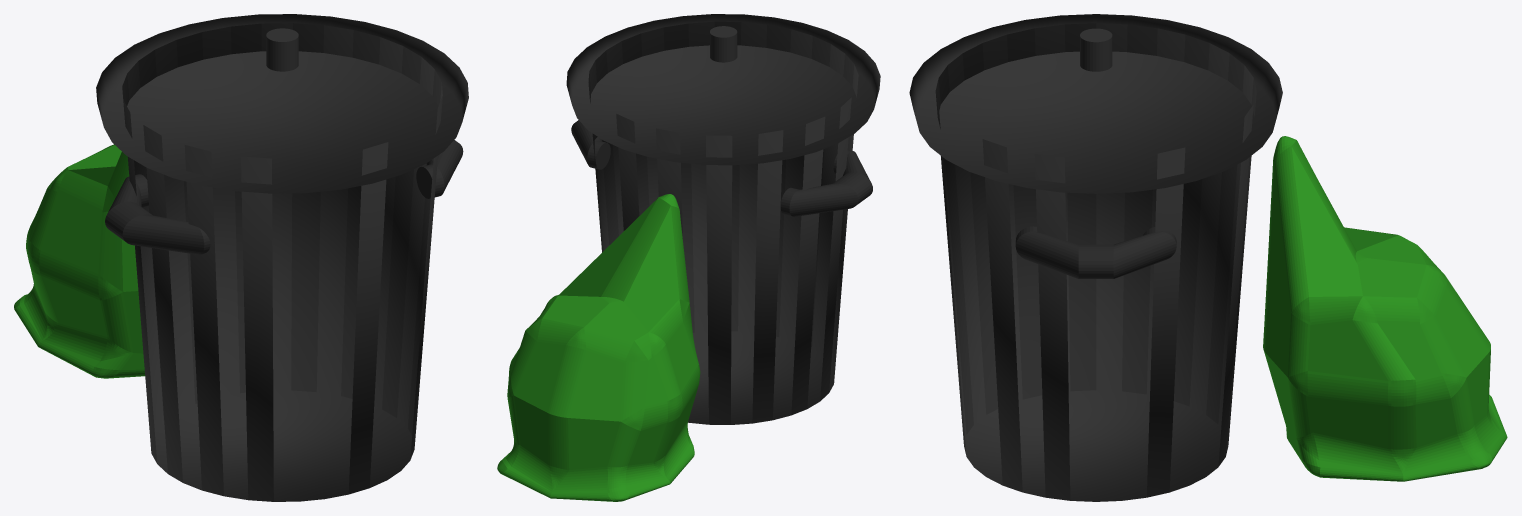
File: Trash.fbx
3 renders of one model, left to right at view 1: azimuth 30°, elevation 25°; view 2: azimuth 150°, elevation 25°; view 3: azimuth 270°, elevation 25°, orthographic. The views are drawn at different scales.
Parts seen in each view (by area): view 1: Trash, TrashAgain; view 2: Trash, TrashAgain; view 3: Trash, TrashAgain.
Boxes of the visible parts, <box> form: Trash: <box>96,14,468,501</box>; TrashAgain: <box>14,144,145,378</box>; Trash: <box>566,14,880,424</box>; TrashAgain: <box>497,194,700,501</box>; Trash: <box>909,14,1282,501</box>; TrashAgain: <box>1263,136,1507,481</box>.
Size of the model in its own units: 937 by 1086 by 1426.
